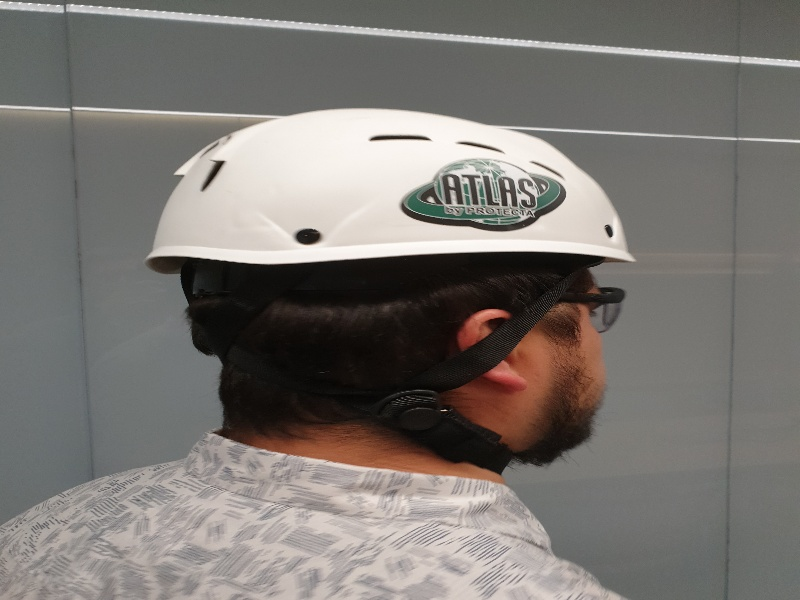Baret: (162, 109, 650, 256)
Gozluk: (567, 284, 626, 332)
